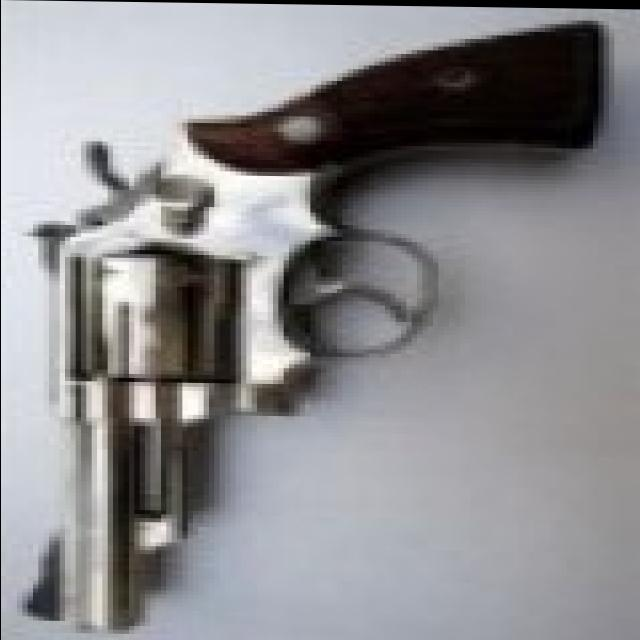handgun: (11, 20, 597, 635)
